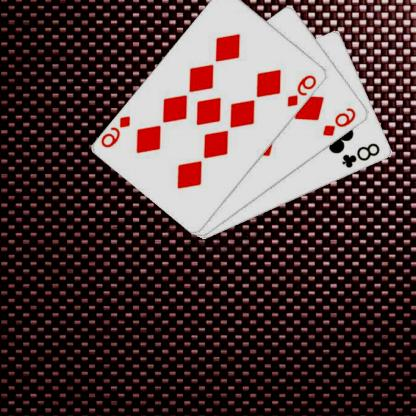6D: (322, 105, 359, 138)
8C: (341, 140, 384, 170)
9D: (287, 72, 320, 108), (101, 113, 134, 149)
